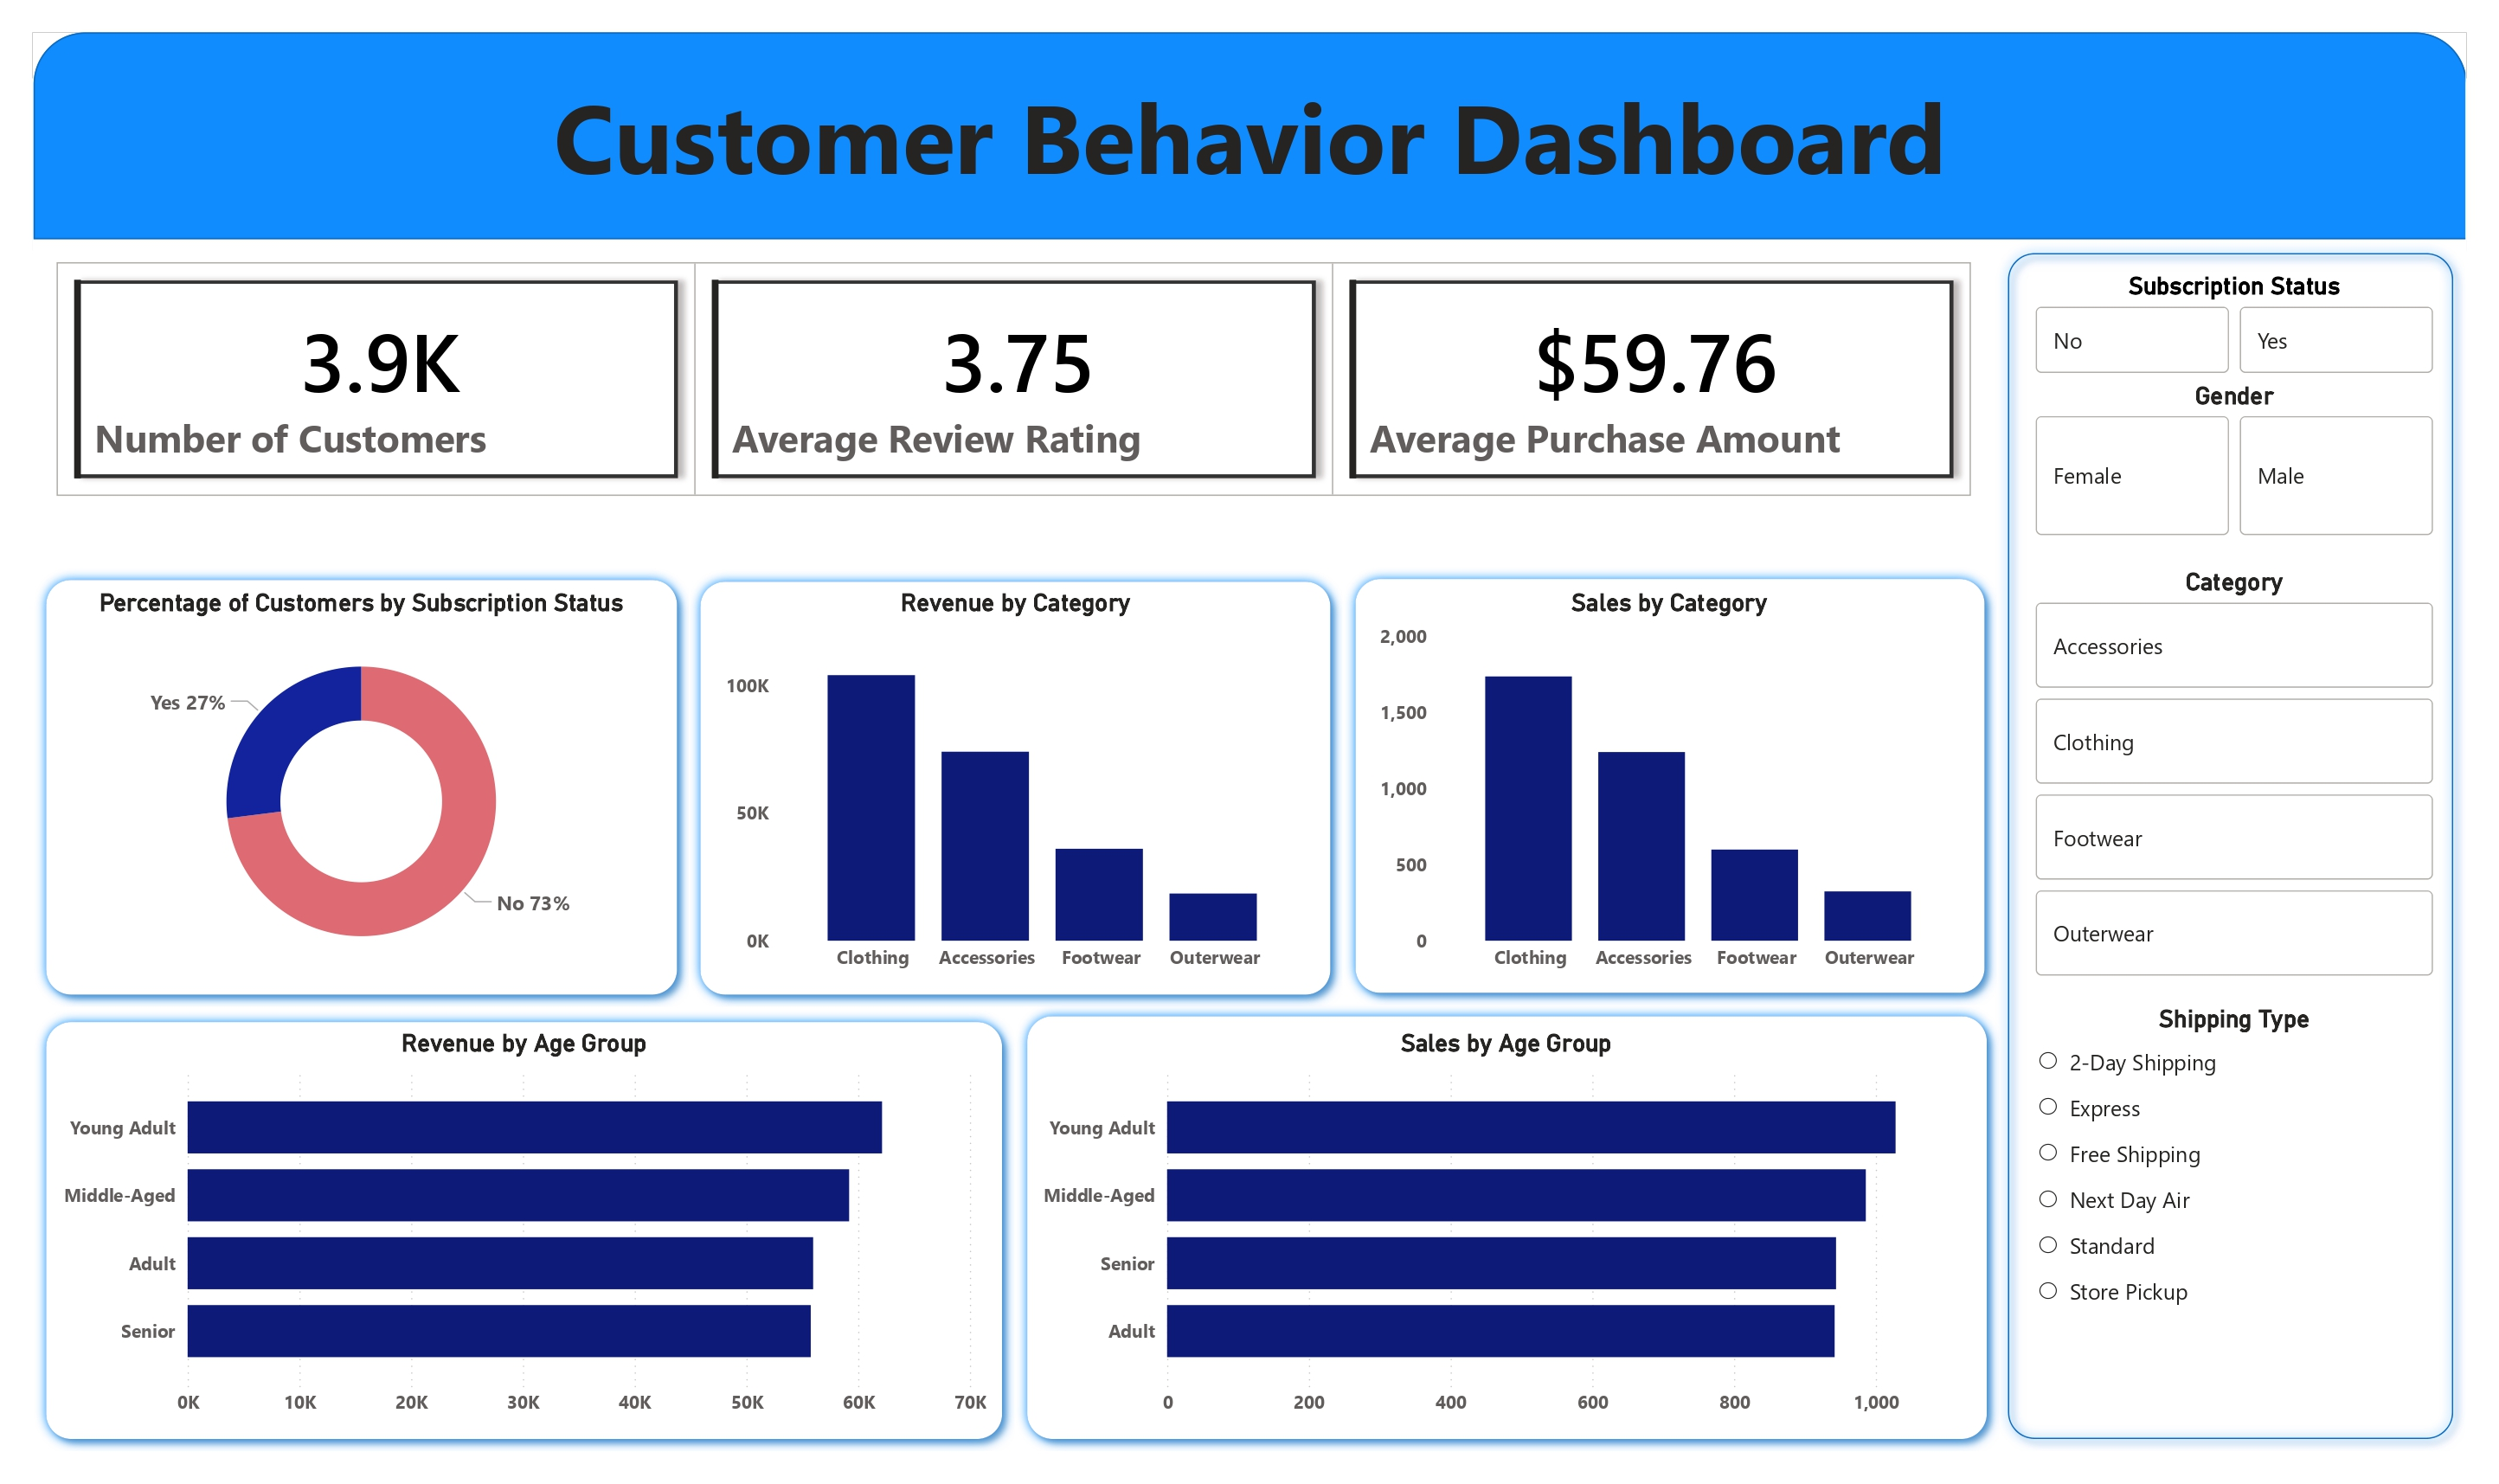

This screenshot's page, from the dashboard's own definition file:
{"tool":"powerbi","page":{"name":"Page 1","canvas":[1800,1050],"ordinal":0},"visuals":[{"type":"cardVisual","fields":{"Data":["customer_sales_db customer_shopping_behavior.Number of Customers","customer_sales_db customer_shopping_behavior.Average Review Rating","customer_sales_db customer_shopping_behavior.Average Purchase Amount"]},"box":[0,153,1453.3,207.2],"z":0},{"type":"shape","box":[0,0,1800.6,153],"z":1000},{"type":"textbox","box":[0,22.3,1800.6,130.7],"z":2000},{"type":"shape","box":[0,396.2,485,324.8],"z":3000},{"type":"donutChart","title":"Percentage of Customers by Subscription Status","fields":{"Category":["customer_sales_db customer_shopping_behavior.subscription_status"],"Y":["CountNonNull(customer_sales_db customer_shopping_behavior.customer_id)"]},"box":[17.3,411.4,450.3,294.5],"z":4000},{"type":"shape","box":[484.4,396.6,485,324.1],"z":5000},{"type":"shape","box":[968.8,395.2,484.4,325.1],"z":6000},{"type":"clusteredColumnChart","title":"Revenue by Category","fields":{"Y":["Sum(customer_sales_db customer_shopping_behavior.purchase_amount)"],"Category":["customer_sales_db customer_shopping_behavior.category"]},"box":[506.7,411.1,439.8,293.2],"z":7000},{"type":"clusteredColumnChart","title":"Sales by Category","fields":{"Y":["CountNonNull(customer_sales_db customer_shopping_behavior.customer_id)"],"Category":["customer_sales_db customer_shopping_behavior.category"]},"box":[991.2,411.1,439.8,293.2],"z":8000},{"type":"shape","box":[1452,153.7,348.3,896.1],"z":9000},{"type":"advancedSlicerVisual","fields":{"Values":["customer_sales_db customer_shopping_behavior.subscription_status"]},"box":[1476.6,176.6,304.1,80.1],"z":10000},{"type":"advancedSlicerVisual","title":"Gender","fields":{"Values":["customer_sales_db customer_shopping_behavior.gender"]},"box":[1476.6,258.4,304.1,119.4],"z":11000},{"type":"advancedSlicerVisual","title":"Category","fields":{"Values":["customer_sales_db customer_shopping_behavior.category"]},"box":[1476.6,395.7,304.1,309],"z":12000},{"type":"listSlicer","title":"Shipping Type","fields":{"Values":["customer_sales_db customer_shopping_behavior.shipping_type"]},"box":[1476.6,719.5,304.1,302.5],"z":13000},{"type":"shape","box":[0,722.7,726,327],"z":14000},{"type":"clusteredBarChart","title":"Revenue by Age Group","fields":{"Y":["Sum(customer_sales_db customer_shopping_behavior.purchase_amount)"],"Category":["customer_sales_db customer_shopping_behavior.age_group"]},"box":[16.4,737.5,693.3,296],"z":15000},{"type":"shape","box":[726,719.5,729.3,330.3],"z":16000},{"type":"clusteredBarChart","title":"Sales by Age Group","fields":{"Y":["CountNonNull(customer_sales_db customer_shopping_behavior.customer_id)"],"Category":["customer_sales_db customer_shopping_behavior.age_group"]},"box":[740.7,737.5,698.2,296],"z":17000}]}

Visuals, with their boxes in screenshot pixels (x1, y1, x2, y2):
cardVisual - customer_sales_db customer_shopping_behavior.Number of Customers x customer_sales_db customer_shopping_behavior.Average Review Rating: {"left": 33, "top": 239, "right": 1998, "bottom": 519}
shape: {"left": 33, "top": 32, "right": 2466, "bottom": 239}
textbox: {"left": 33, "top": 62, "right": 2466, "bottom": 239}
shape: {"left": 33, "top": 568, "right": 688, "bottom": 1007}
"Percentage of Customers by Subscription Status" donutChart: {"left": 56, "top": 588, "right": 665, "bottom": 986}
shape: {"left": 688, "top": 569, "right": 1343, "bottom": 1006}
shape: {"left": 1343, "top": 567, "right": 1998, "bottom": 1006}
"Revenue by Category" clusteredColumnChart: {"left": 717, "top": 588, "right": 1313, "bottom": 985}
"Sales by Category" clusteredColumnChart: {"left": 1373, "top": 588, "right": 1968, "bottom": 985}
shape: {"left": 1996, "top": 241, "right": 2466, "bottom": 1451}
advancedSlicerVisual - customer_sales_db customer_shopping_behavior.subscription_status: {"left": 2029, "top": 271, "right": 2440, "bottom": 379}
"Gender" advancedSlicerVisual: {"left": 2029, "top": 382, "right": 2440, "bottom": 543}
"Category" advancedSlicerVisual: {"left": 2029, "top": 568, "right": 2440, "bottom": 985}
"Shipping Type" listSlicer: {"left": 2029, "top": 1005, "right": 2440, "bottom": 1414}
shape: {"left": 33, "top": 1009, "right": 1014, "bottom": 1451}
"Revenue by Age Group" clusteredBarChart: {"left": 55, "top": 1029, "right": 993, "bottom": 1429}
shape: {"left": 1014, "top": 1005, "right": 2001, "bottom": 1451}
"Sales by Age Group" clusteredBarChart: {"left": 1034, "top": 1029, "right": 1978, "bottom": 1429}
